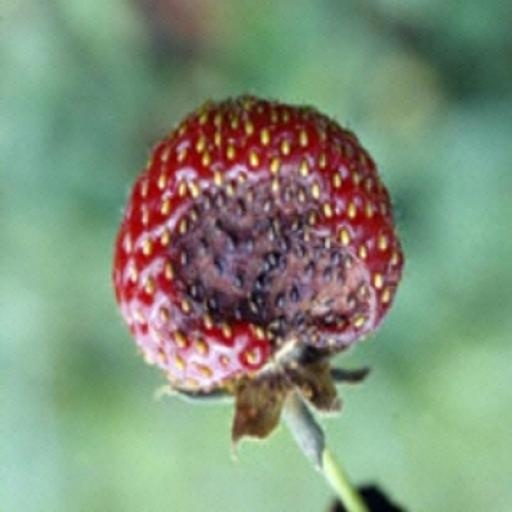Anthracnose Fruit Rot: (135, 156, 389, 356)
